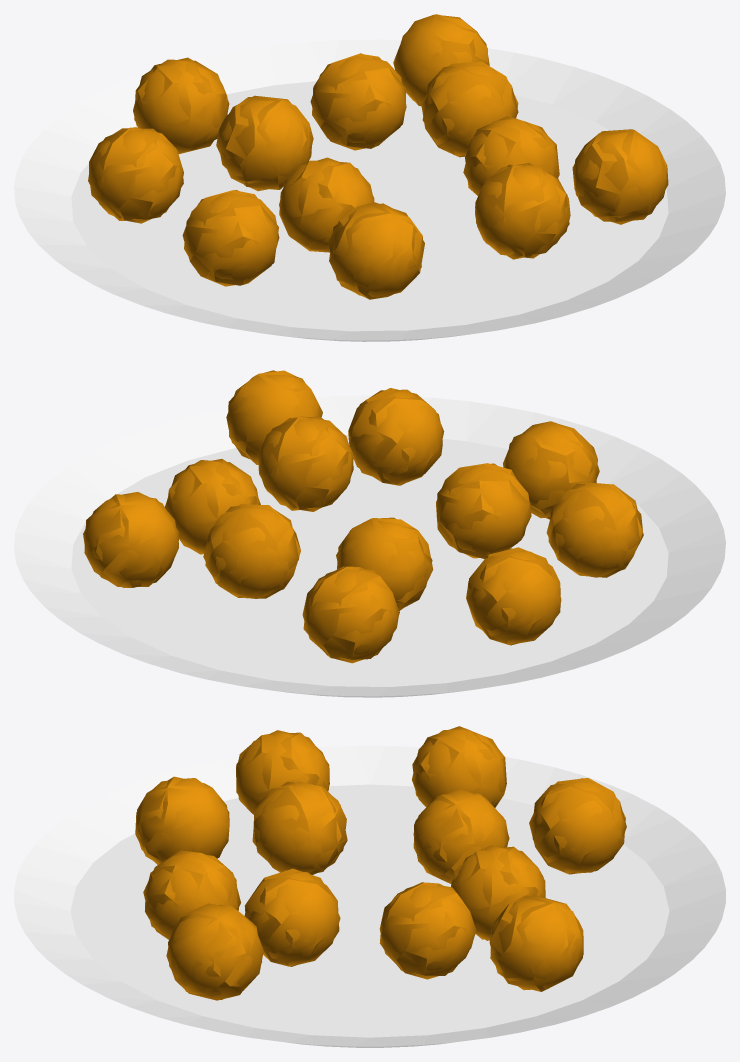
Rendered from plated_bitterballen_model.fbx.
The picture shows the model from 3 angles, top to bottom: view 1: azimuth 30°, elevation 25°; view 2: azimuth 150°, elevation 25°; view 3: azimuth 270°, elevation 25°; orthographic projection.
Parts seen in each view (by area): view 1: bitterbal_plate, bitterbal_02_model, bitterbal_01_model, bitterbal_04_model, bitterbal_03_model; view 2: bitterbal_plate, bitterbal_01_model, bitterbal_02_model, bitterbal_03_model, bitterbal_04_model; view 3: bitterbal_plate, bitterbal_03_model, bitterbal_04_model, bitterbal_02_model, bitterbal_01_model.
Part boxes in pixels (bbox=[...]): bitterbal_plate: bbox=[14, 39, 725, 341]; bitterbal_02_model: bbox=[88, 57, 313, 223]; bitterbal_01_model: bbox=[182, 157, 424, 299]; bitterbal_04_model: bbox=[463, 116, 668, 259]; bitterbal_03_model: bbox=[310, 14, 518, 157]; bitterbal_plate: bbox=[14, 395, 725, 697]; bitterbal_01_model: bbox=[436, 421, 643, 577]; bitterbal_02_model: bbox=[302, 517, 561, 663]; bitterbal_03_model: bbox=[83, 459, 300, 598]; bitterbal_04_model: bbox=[226, 370, 444, 511]; bitterbal_plate: bbox=[14, 745, 725, 1047]; bitterbal_03_model: bbox=[379, 845, 583, 991]; bitterbal_04_model: bbox=[143, 850, 340, 1000]; bitterbal_02_model: bbox=[412, 726, 626, 883]; bitterbal_01_model: bbox=[135, 730, 347, 874].
Bounding box in the file's own units: 56.9 × 56.9 × 9.18.
